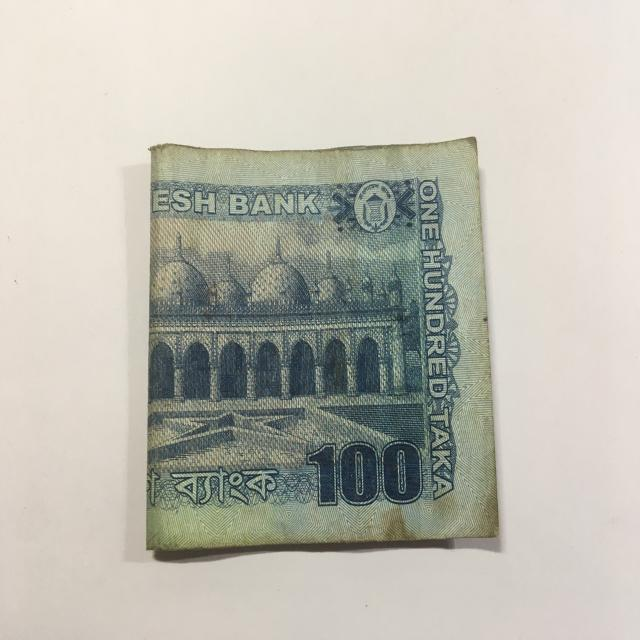Taka: (142, 131, 501, 567)
